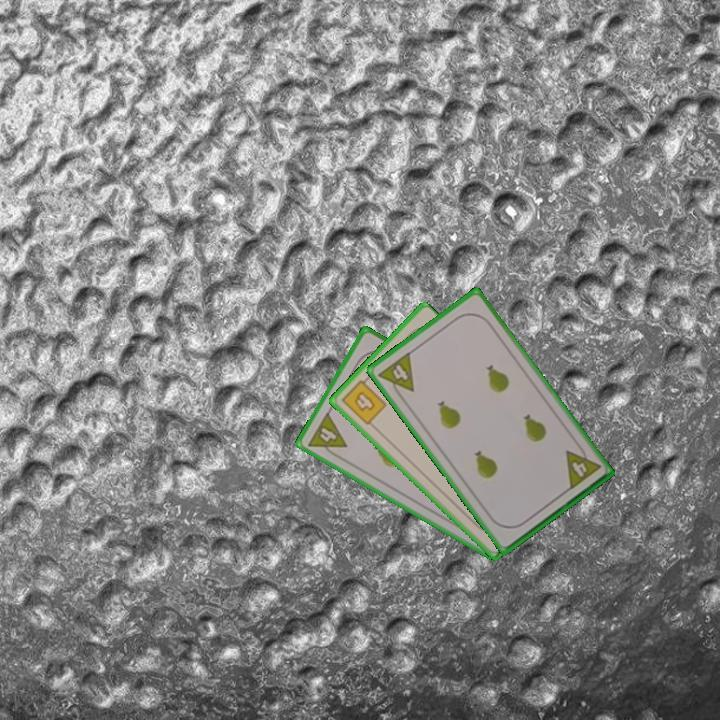4b: (338, 373, 390, 428)
4p: (304, 408, 350, 462), (374, 348, 417, 402), (562, 440, 603, 493)
